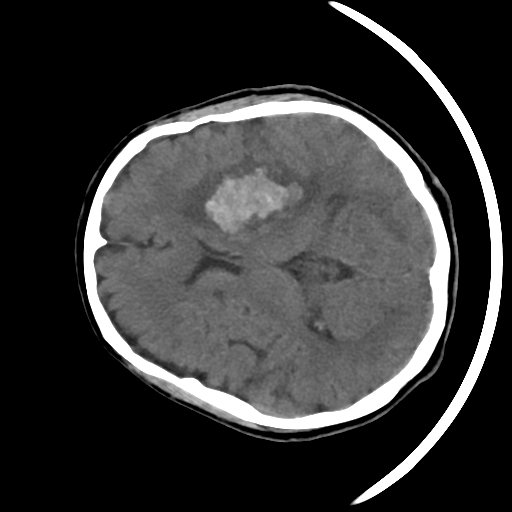a: (163, 151, 329, 241)
